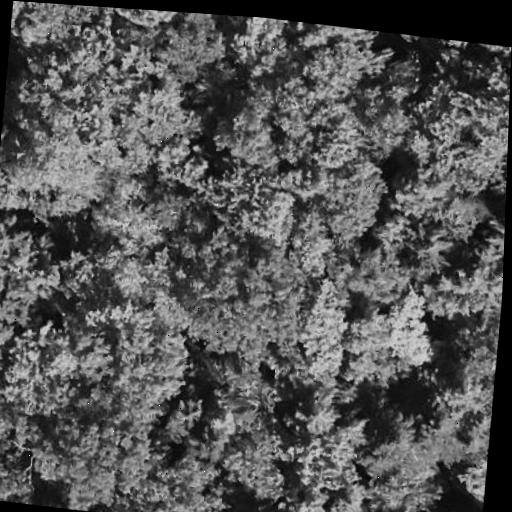tree-top: (170, 214, 305, 373), (0, 84, 120, 226), (67, 296, 198, 421), (411, 79, 510, 204), (27, 413, 125, 512), (382, 167, 493, 252), (309, 148, 396, 255), (286, 270, 364, 389), (0, 211, 91, 310), (401, 373, 495, 467), (0, 317, 82, 422), (124, 431, 228, 512), (205, 75, 290, 174), (410, 246, 498, 334), (376, 281, 448, 375), (295, 27, 373, 107), (147, 10, 228, 87), (361, 436, 443, 512), (14, 1, 108, 59), (222, 15, 298, 85), (280, 444, 356, 512), (125, 82, 192, 157), (228, 425, 294, 497), (0, 258, 31, 409), (109, 186, 167, 258), (210, 364, 281, 422), (365, 95, 418, 153), (292, 22, 388, 53), (295, 392, 335, 438), (428, 37, 512, 58), (0, 440, 27, 504), (6, 1, 25, 70), (126, 8, 183, 31), (386, 32, 436, 54), (355, 500, 427, 512)
